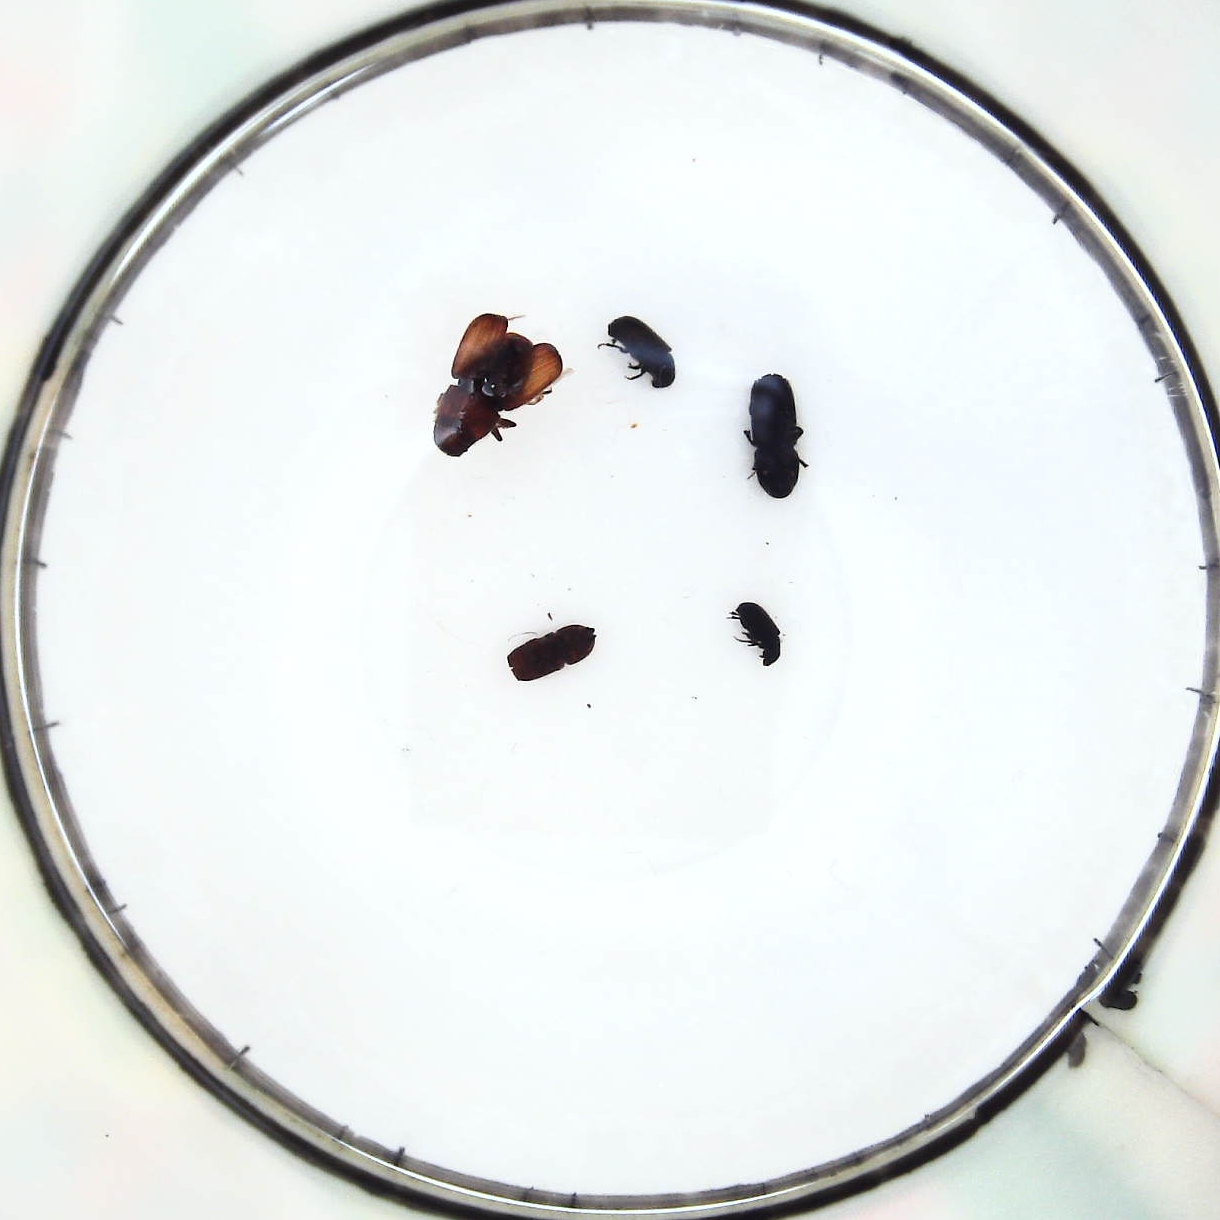Boerner: (743, 369, 809, 498)
Leconte: (438, 311, 565, 463)
Linnaeus: (513, 620, 594, 686)
armandi: (604, 313, 682, 393)
coleoptera: (733, 595, 784, 674)
